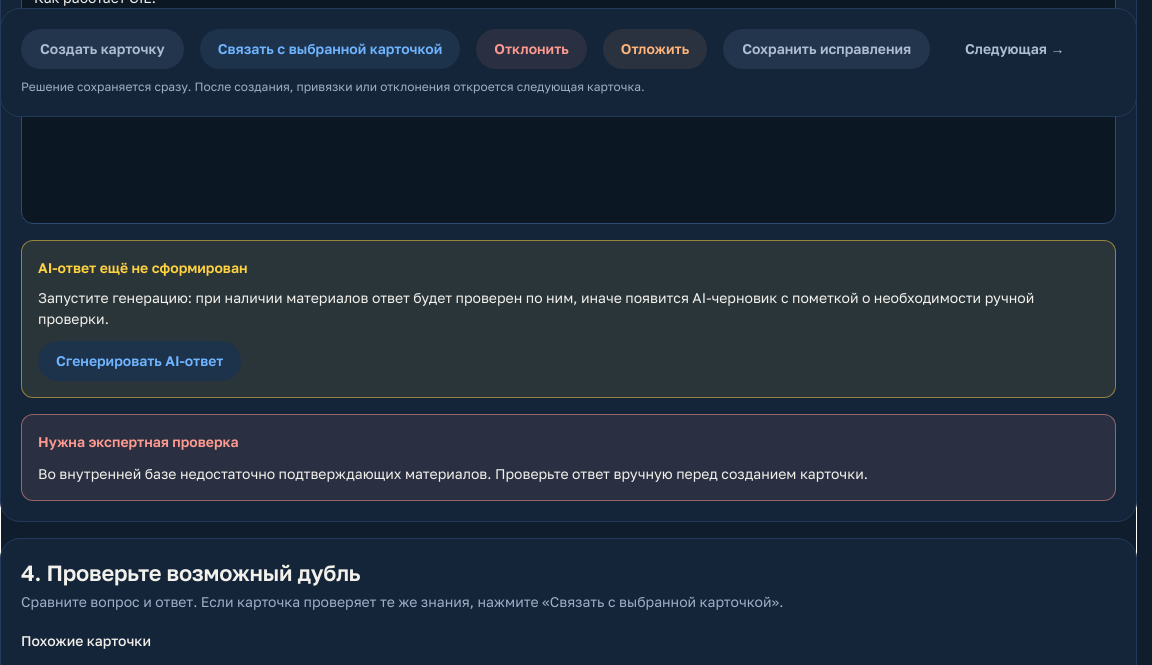
Test case: запускает генерацию отсутствующего AI-ответа прямо из проверки карточки
The width and height of the screenshot is (1152, 665).
(page scrolled)
Click the button "Сгенерировать AI-ответ" at (140, 361), box [38,341,241,381]
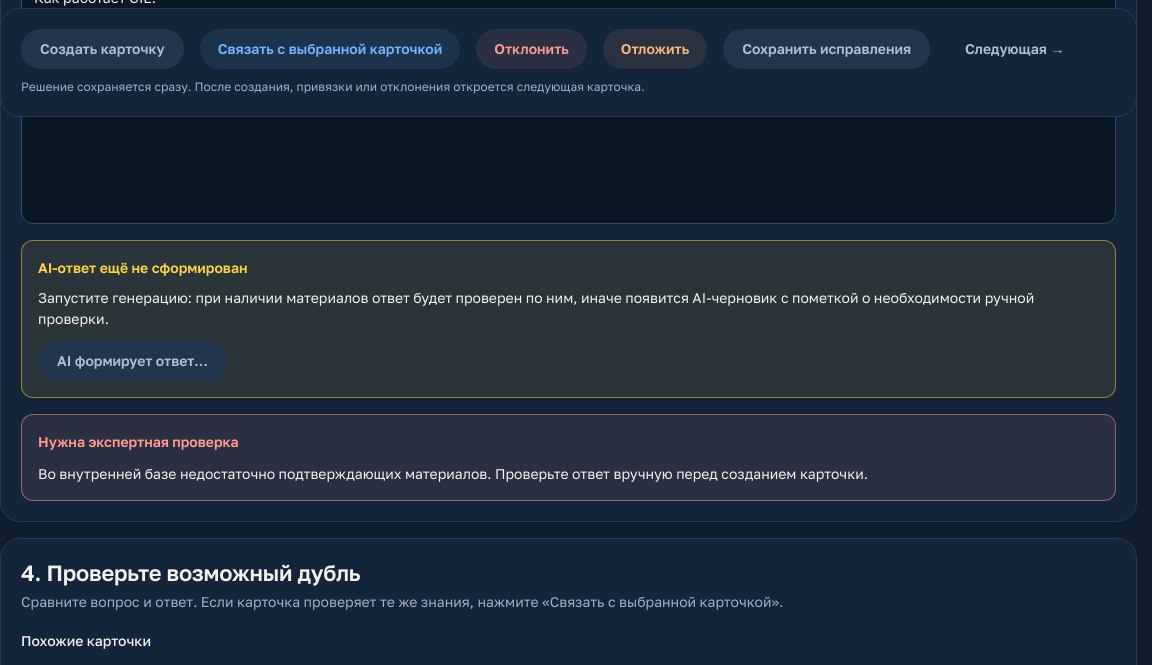
Check: the button "AI формирует ответ…" is disabled, box [38,341,227,381]
